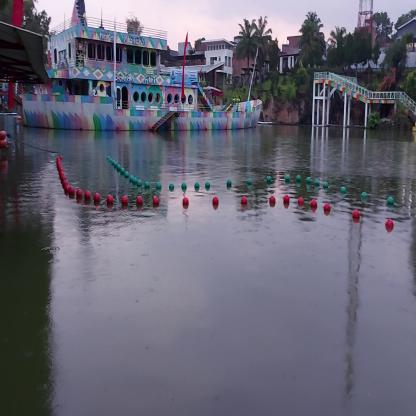green_buoy: (284, 172, 290, 184), (387, 196, 393, 208), (145, 179, 150, 192), (295, 175, 302, 184), (168, 182, 174, 192), (246, 178, 253, 186), (340, 187, 346, 196), (194, 183, 200, 191), (227, 179, 232, 188), (137, 179, 142, 188), (324, 182, 329, 191), (361, 191, 368, 197), (267, 175, 272, 183), (307, 176, 311, 186), (315, 179, 319, 188), (157, 182, 161, 191), (182, 182, 186, 191), (206, 182, 210, 191)
red_buoy: (66, 184, 76, 202), (350, 208, 360, 224), (384, 218, 394, 232), (210, 197, 220, 210), (84, 188, 92, 204), (152, 194, 160, 210), (282, 193, 290, 208), (323, 202, 331, 217), (240, 197, 249, 210), (107, 194, 115, 207), (136, 195, 144, 208), (310, 198, 318, 211), (297, 196, 306, 207), (268, 196, 276, 208), (76, 189, 82, 203), (121, 196, 128, 208), (94, 192, 99, 206), (183, 198, 188, 209)
